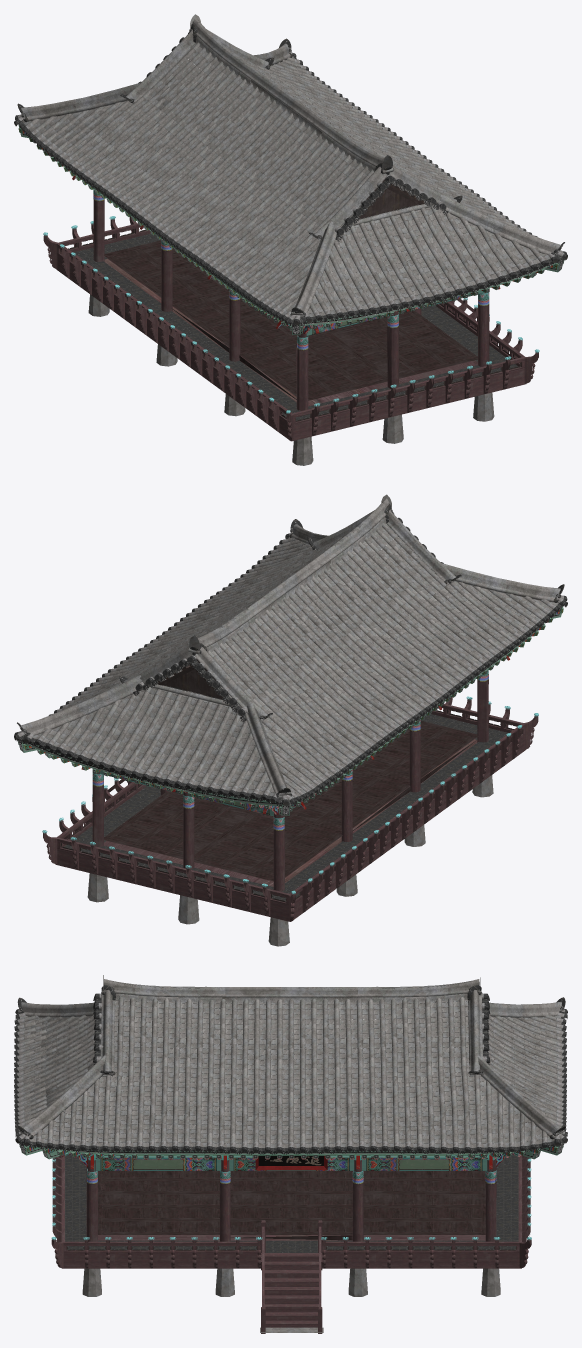
The model's file is toeeun.glb.
The picture shows the model from 3 angles, top to bottom: view 1: azimuth 30°, elevation 25°; view 2: azimuth 150°, elevation 25°; view 3: azimuth 270°, elevation 25°; orthographic projection. The views are drawn at different scales.
Visible parts, largest first — view 1: Pavilion_mesh, Pavilion_mesh_Roof_Concrete_01_m_0.003, Pavilion_mesh_Roof_Concrete_01_m_0.007, Pavilion_mesh_Roof_Concrete_01_m_0.008, Pavilion_mesh_Roof_Concrete_01_m_0.004, Pavilion_mesh_Roof_Concrete_01_m_0.006, Pavilion_mesh_Roof_Concrete_01_m_0.001, Pavilion_mesh_Roof_Concrete_01_m_0.005, Pavilion_mesh_Roof_Concrete_01_m_0.002; view 2: Pavilion_mesh, Pavilion_mesh_Roof_Concrete_01_m_0.007, Pavilion_mesh_Roof_Concrete_01_m_0.003, Pavilion_mesh_Roof_Concrete_01_m_0.008, Pavilion_mesh_Roof_Concrete_01_m_0.002, Pavilion_mesh_Roof_Concrete_01_m_0.004, Pavilion_mesh_Roof_Concrete_01_m_0.006, Pavilion_mesh_Roof_Concrete_01_m_0.001, Pavilion_mesh_Roof_Concrete_01_m_0.005; view 3: Pavilion_mesh, Pavilion_mesh_Roof_Concrete_01_m_0.005, Pavilion_mesh_Roof_Concrete_01_m_0.001, Pavilion_mesh_Roof_Concrete_01_m_0.003, Pavilion_mesh_Roof_Concrete_01_m_0.002, Pavilion_mesh_Roof_Concrete_01_m_0.006, Pavilion_mesh_Roof_Concrete_01_m_0.004.
Boxes of the visible parts, bbox=[...] form: Pavilion_mesh: bbox=[18, 36, 564, 465]; Pavilion_mesh_Roof_Concrete_01_m_0.003: bbox=[14, 14, 567, 327]; Pavilion_mesh_Roof_Concrete_01_m_0.007: bbox=[158, 126, 354, 285]; Pavilion_mesh_Roof_Concrete_01_m_0.008: bbox=[86, 73, 283, 234]; Pavilion_mesh_Roof_Concrete_01_m_0.004: bbox=[16, 29, 566, 322]; Pavilion_mesh_Roof_Concrete_01_m_0.006: bbox=[22, 52, 361, 320]; Pavilion_mesh_Roof_Concrete_01_m_0.001: bbox=[74, 61, 488, 207]; Pavilion_mesh_Roof_Concrete_01_m_0.005: bbox=[239, 57, 418, 156]; Pavilion_mesh_Roof_Concrete_01_m_0.002: bbox=[71, 58, 567, 254]; Pavilion_mesh: bbox=[17, 517, 563, 946]; Pavilion_mesh_Roof_Concrete_01_m_0.007: bbox=[310, 536, 505, 705]; Pavilion_mesh_Roof_Concrete_01_m_0.003: bbox=[14, 495, 567, 807]; Pavilion_mesh_Roof_Concrete_01_m_0.008: bbox=[241, 597, 435, 758]; Pavilion_mesh_Roof_Concrete_01_m_0.002: bbox=[32, 532, 562, 779]; Pavilion_mesh_Roof_Concrete_01_m_0.004: bbox=[34, 494, 567, 803]; Pavilion_mesh_Roof_Concrete_01_m_0.006: bbox=[62, 536, 558, 800]; Pavilion_mesh_Roof_Concrete_01_m_0.001: bbox=[146, 552, 364, 767]; Pavilion_mesh_Roof_Concrete_01_m_0.005: bbox=[74, 607, 248, 776]; Pavilion_mesh: bbox=[15, 993, 565, 1333]; Pavilion_mesh_Roof_Concrete_01_m_0.005: bbox=[291, 1016, 561, 1148]; Pavilion_mesh_Roof_Concrete_01_m_0.001: bbox=[152, 1016, 454, 1148]; Pavilion_mesh_Roof_Concrete_01_m_0.003: bbox=[14, 977, 567, 1154]; Pavilion_mesh_Roof_Concrete_01_m_0.002: bbox=[24, 1015, 561, 1151]; Pavilion_mesh_Roof_Concrete_01_m_0.006: bbox=[112, 997, 554, 1148]; Pavilion_mesh_Roof_Concrete_01_m_0.004: bbox=[15, 975, 566, 1142].
Bounding box in the file's own units: 12.91 × 10.86 × 19.85.
9 materials, 9 textured.
